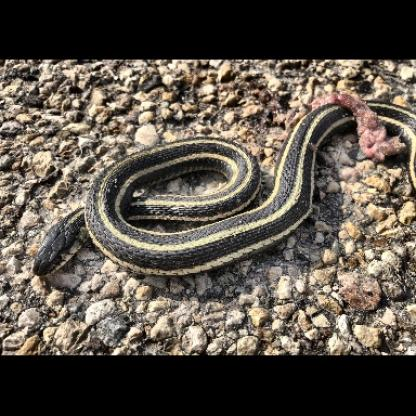Snake: (22, 102, 416, 284), (22, 195, 122, 289)
